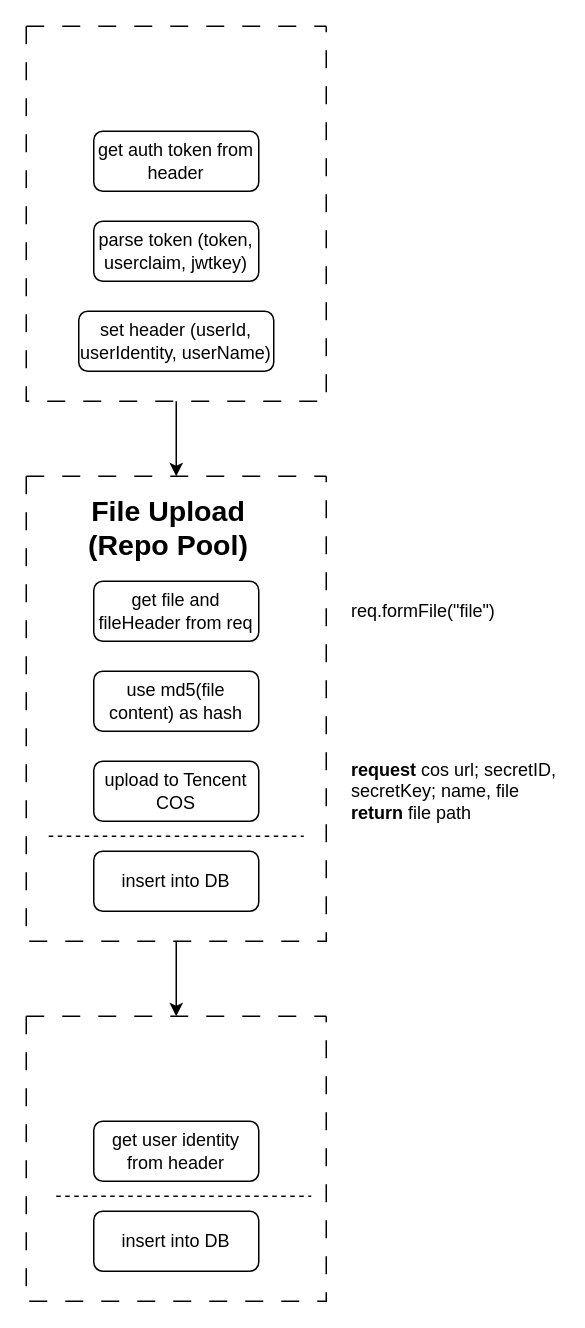
The diagram is 585 pixels wide and 1328 high, and some of its shapes have lost their labels. The centre of each missing label's shape, as x and y in pixels:
"Authorization Middleware" goes at pixel 175 213.
"File Conn with User" goes at pixel 175 1158.
